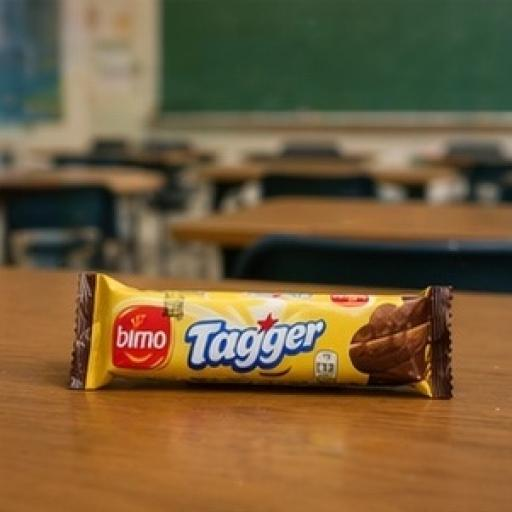tagger: (39, 240, 479, 441)
